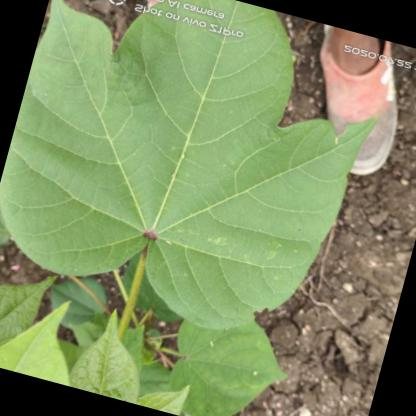cotton: (0, 0, 401, 345)
